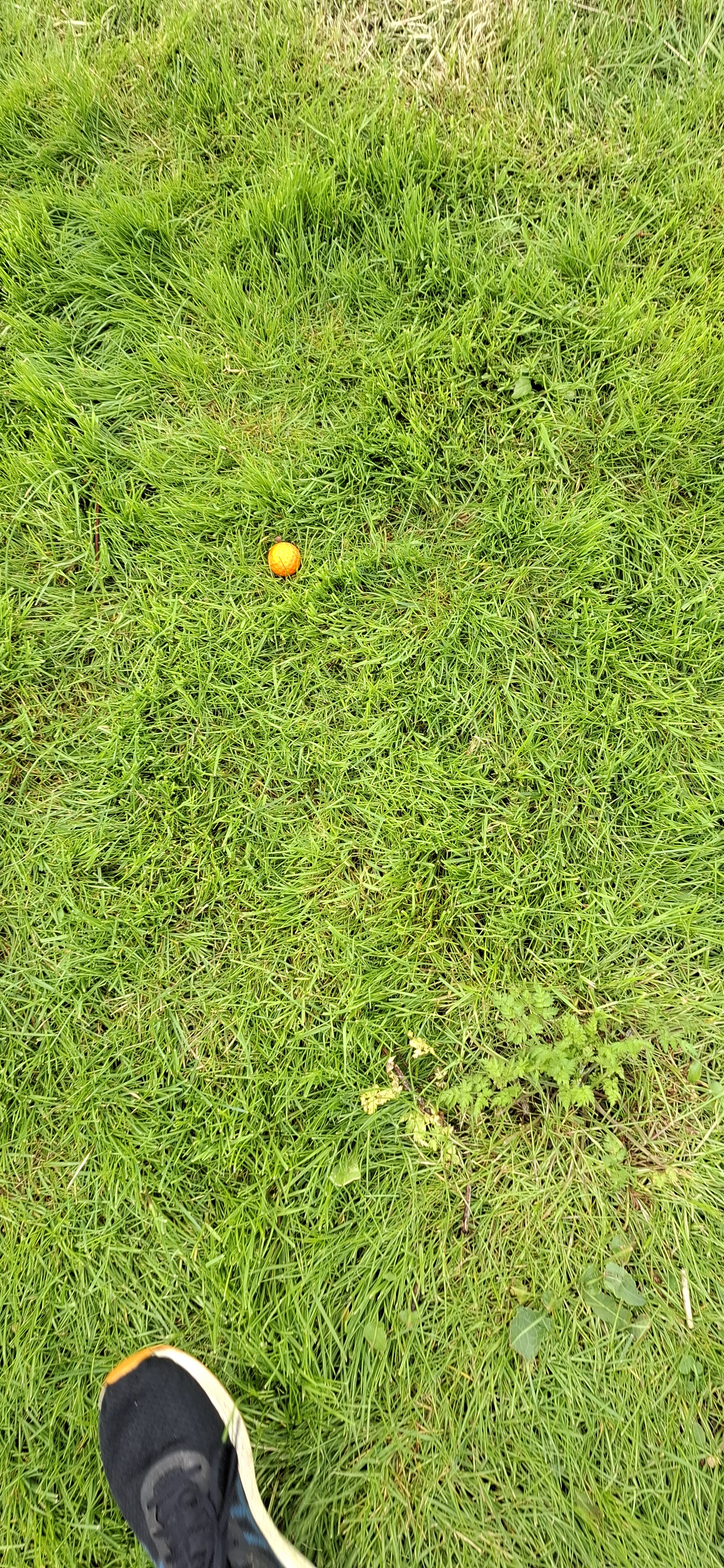ball: (250, 918, 266, 988)
